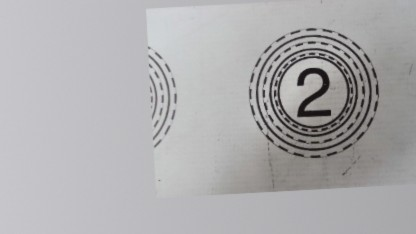2r: (242, 24, 382, 162)
